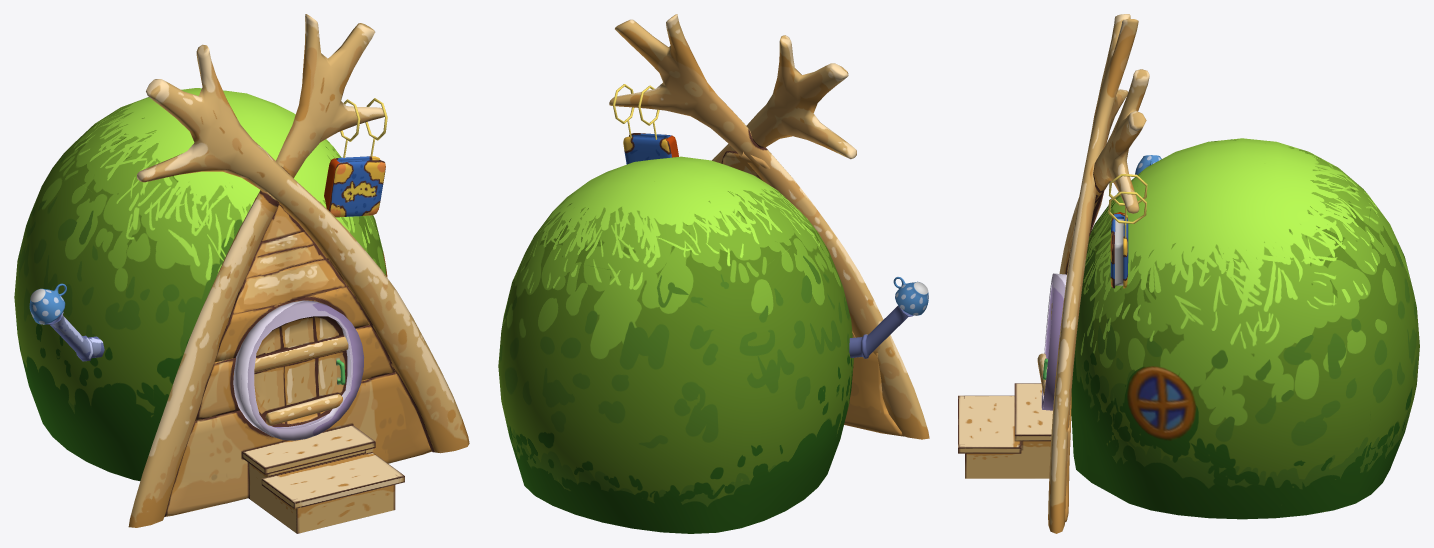
The model's file is losyashs_house1.glb.
The picture shows the model from 3 angles, left to right: view 1: azimuth 30°, elevation 25°; view 2: azimuth 150°, elevation 25°; view 3: azimuth 270°, elevation 25°; orthographic projection. The views are drawn at different scales.
Parts seen in each view (by area): view 1: Entrance, Base, Door, Book, Tube, cup; view 2: Base, Entrance, Book, Tube, cup; view 3: Base, Entrance, Door, Book.
Part boxes in pixels (x1=…): Entrance: x1=128, y1=14, x2=469, y2=533; Base: x1=14, y1=88, x2=387, y2=480; Door: x1=233, y1=300, x2=364, y2=440; Book: x1=324, y1=98, x2=387, y2=217; Tube: x1=45, y1=312, x2=104, y2=361; cup: x1=29, y1=283, x2=66, y2=324; Base: x1=498, y1=156, x2=853, y2=533; Entrance: x1=609, y1=14, x2=929, y2=439; Book: x1=612, y1=84, x2=678, y2=164; Tube: x1=849, y1=305, x2=913, y2=358; cup: x1=893, y1=277, x2=928, y2=315; Base: x1=1071, y1=138, x2=1419, y2=519; Entrance: x1=958, y1=14, x2=1149, y2=533; Door: x1=1037, y1=273, x2=1066, y2=410; Book: x1=1108, y1=174, x2=1147, y2=288.
Bounding box in the file's own units: 6.32 × 6.63 × 6.75.
Materials: 5 (5 with a texture image).
